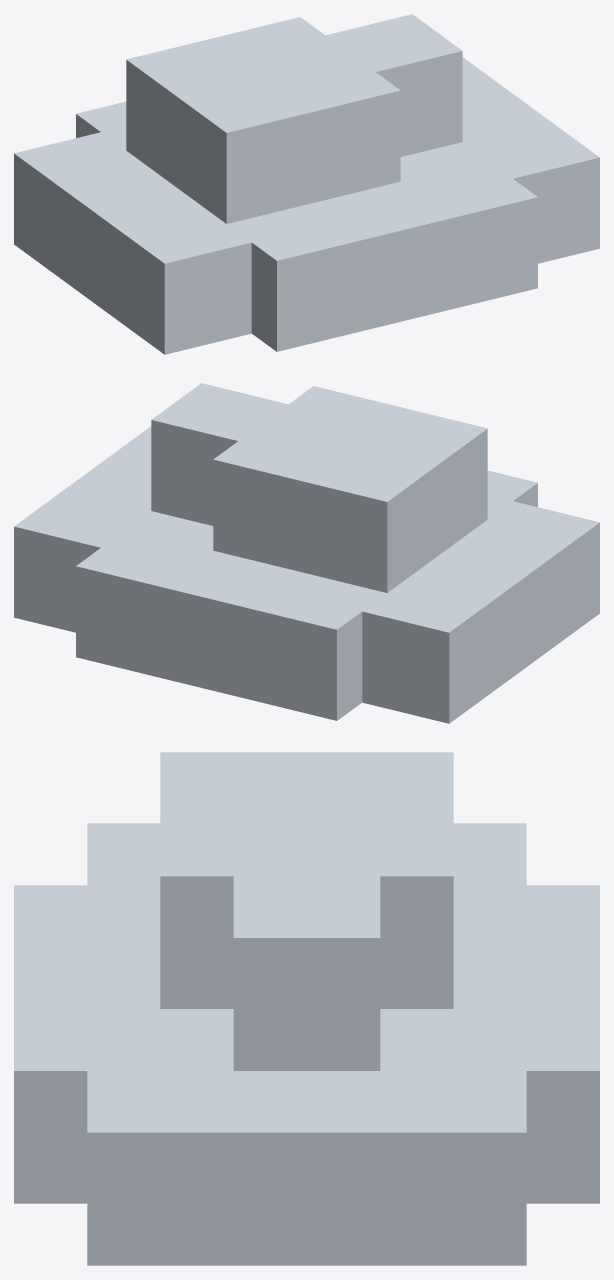
The model's file is stone-01.obj.
3 views of the same model, one above another, from view 1: azimuth 30°, elevation 25°; view 2: azimuth 150°, elevation 25°; view 3: azimuth 270°, elevation 25° (orthographic). The views are drawn at different scales.
Size of the model in its own units: 5 by 2 by 4.
1 material, 1 textured.
